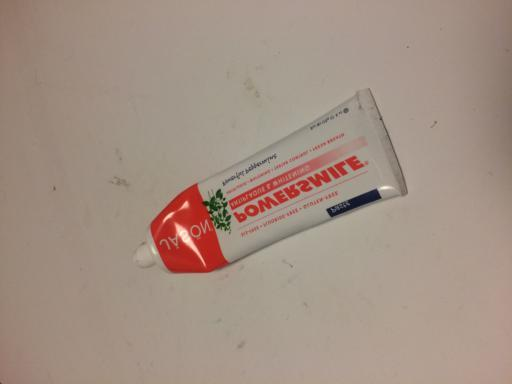trash: (131, 87, 410, 277)
